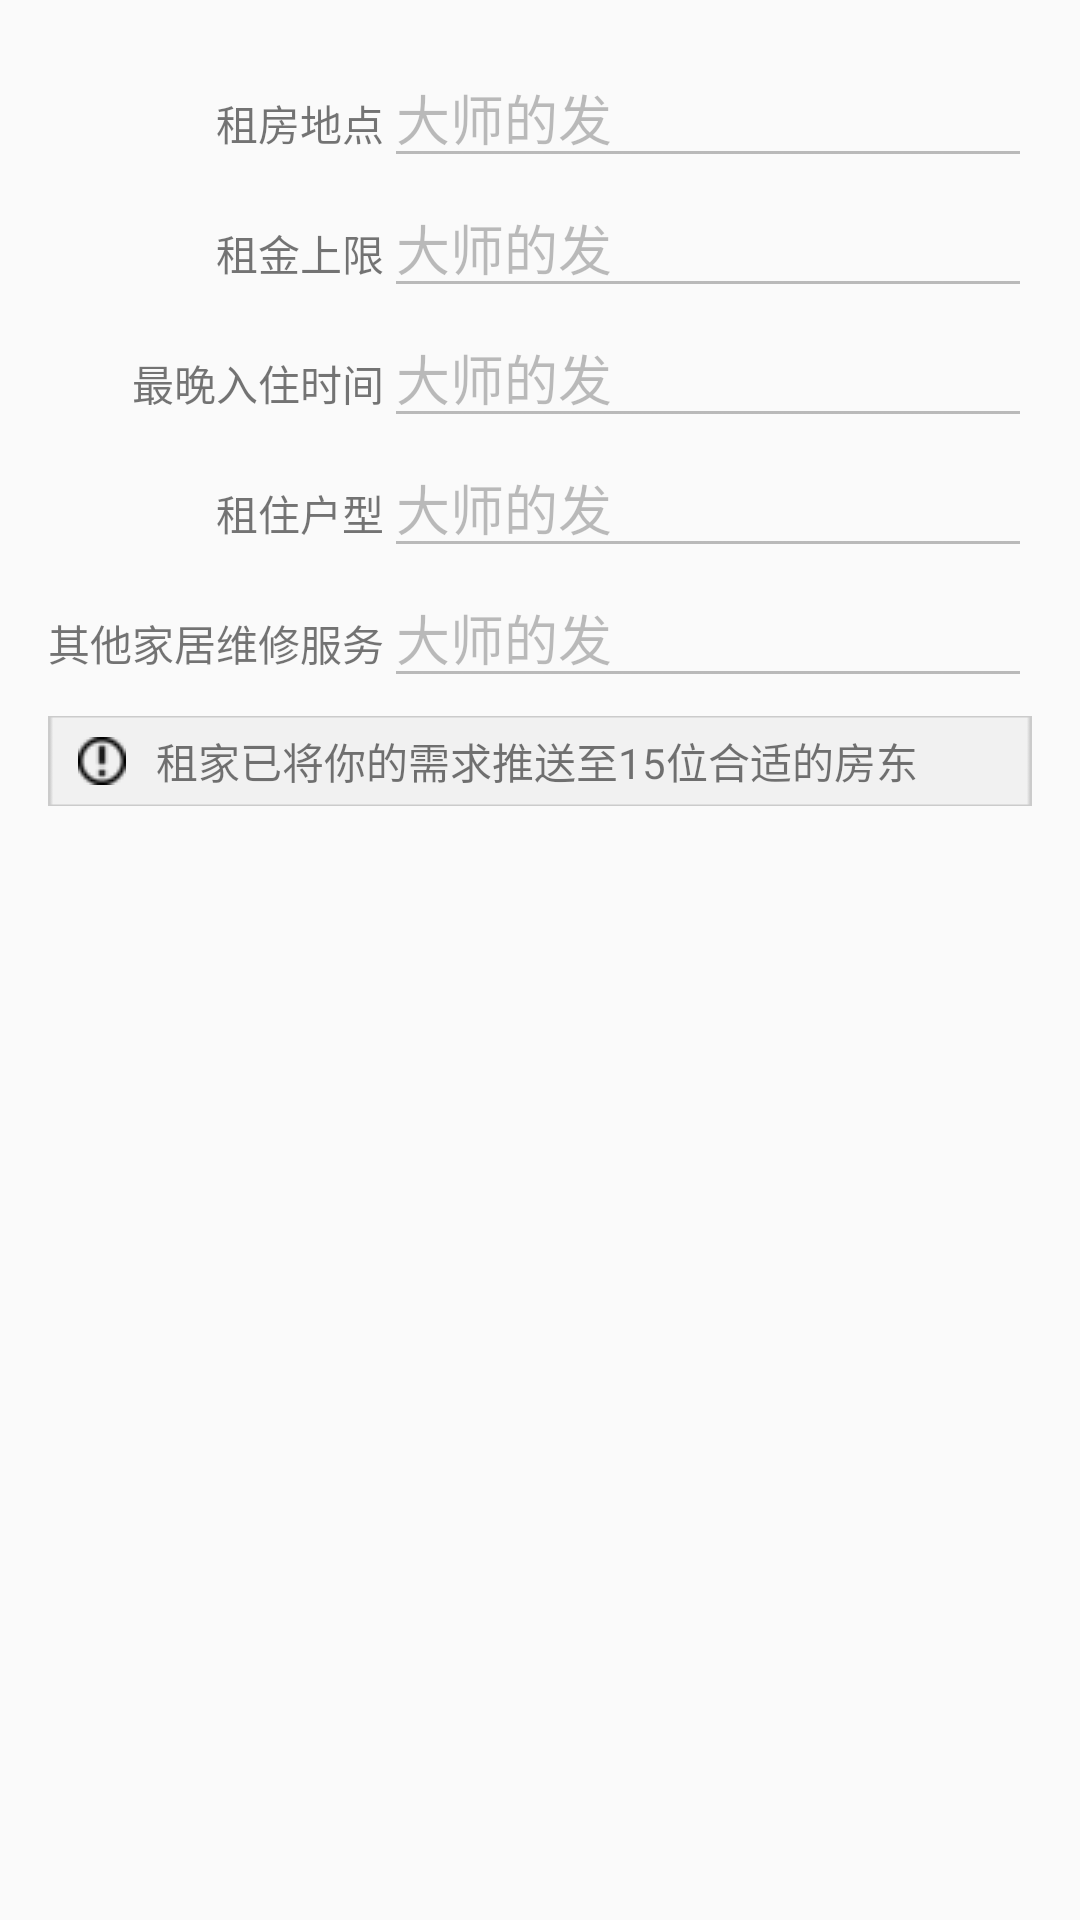

Named icons in this screenshot (1080px×1920px) and their centers, point (x, y):
exclamation mark: point (102, 761)
